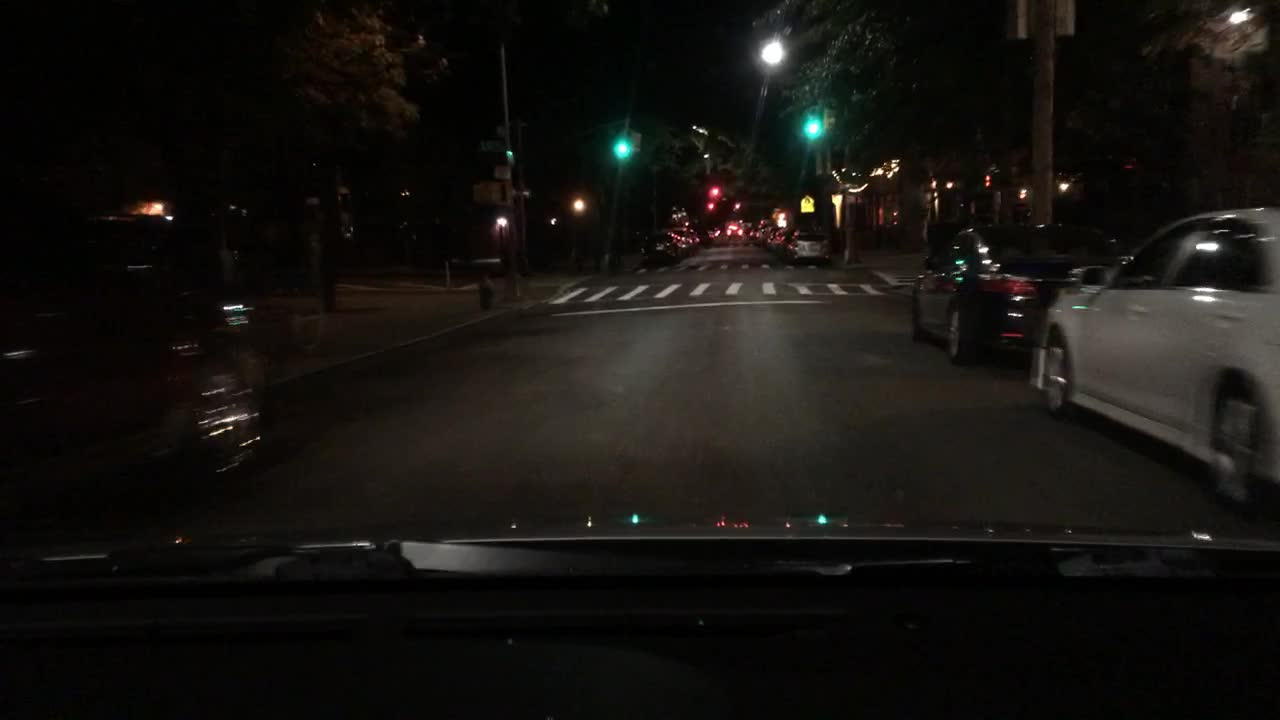car: (0, 207, 270, 507), (1030, 204, 1278, 512), (908, 219, 1125, 367), (780, 226, 831, 268), (641, 230, 682, 265), (763, 225, 796, 252), (673, 227, 701, 252), (666, 233, 695, 255), (755, 222, 780, 247), (752, 220, 774, 246), (696, 229, 715, 247), (745, 227, 760, 242)
traffic light: (473, 178, 511, 209), (799, 109, 820, 145), (615, 133, 632, 155), (628, 128, 642, 153)
traffic sign: (1013, 0, 1077, 41), (476, 138, 508, 155), (797, 193, 816, 213), (494, 163, 511, 180)
